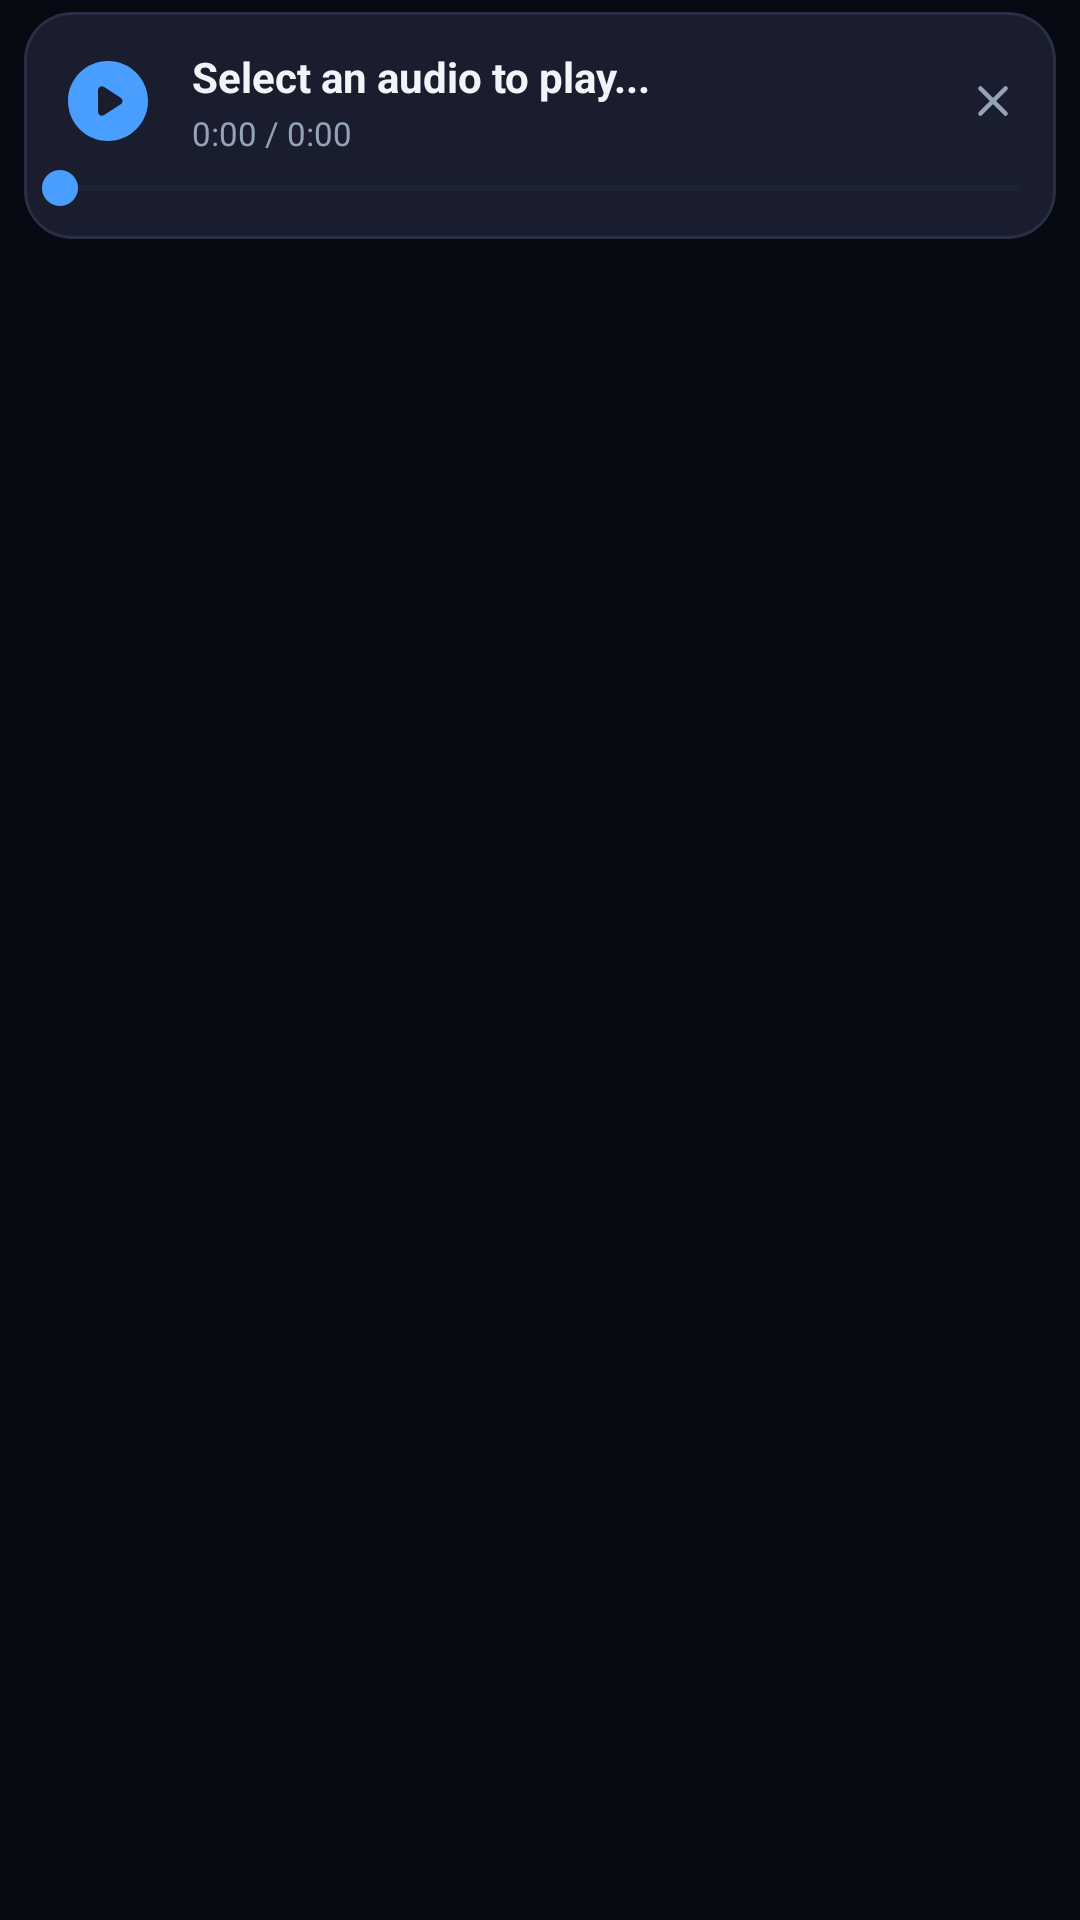

Icon bounding boxes for this 1080x1920 phone screenshot, format Rect(x1, y1, x2, y2):
close: Rect(978, 86, 1008, 116)
play circle: Rect(68, 61, 148, 141)
